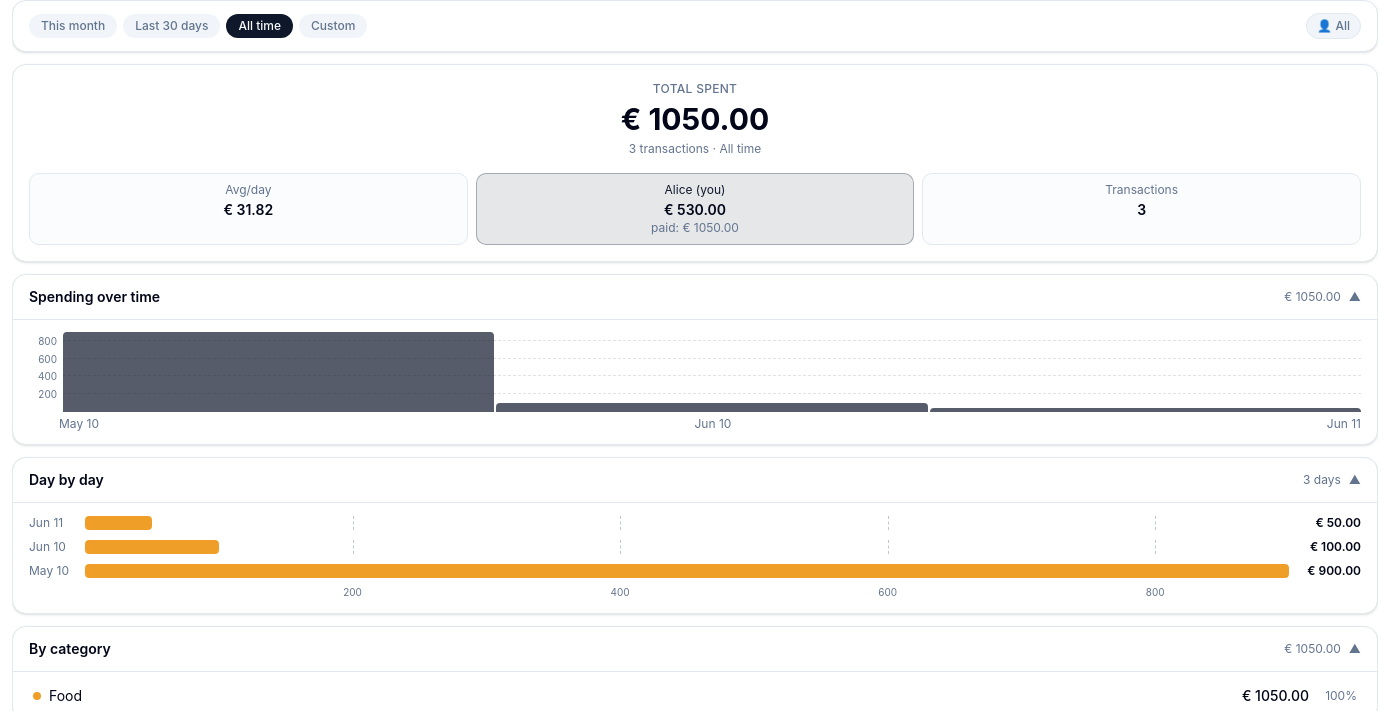
Test: DashboardTab — per-person and the two day cards › Day by day: follows the GLOBAL range rather than a per-card period
expect the text "Day by day" shows "3 days": met, box [13,458,1377,502]
Step 1. Click the button "This month" → [73, 26], box [29,14,117,38]
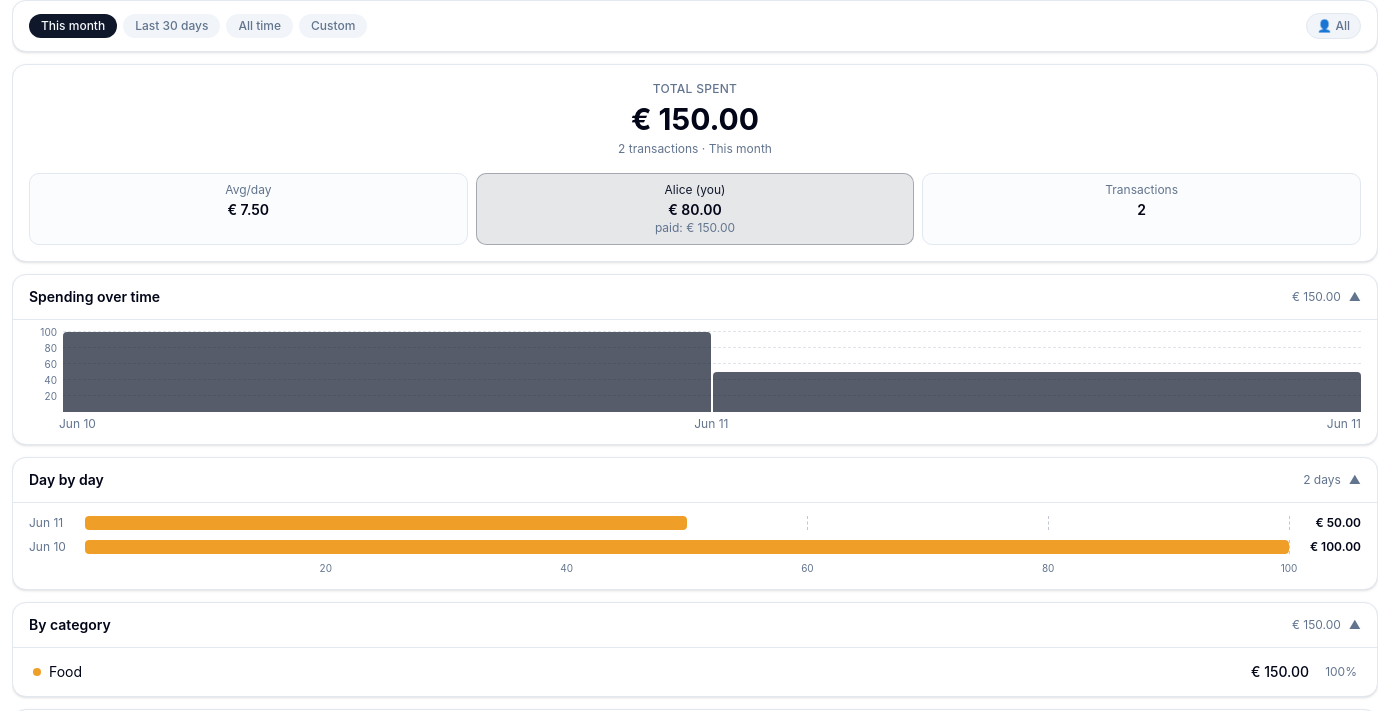
expect the text "Day by day" shows "2 days": met, box [13,458,1377,502]
expect the text "Day by day" no longer shows "€ 900.00": met
